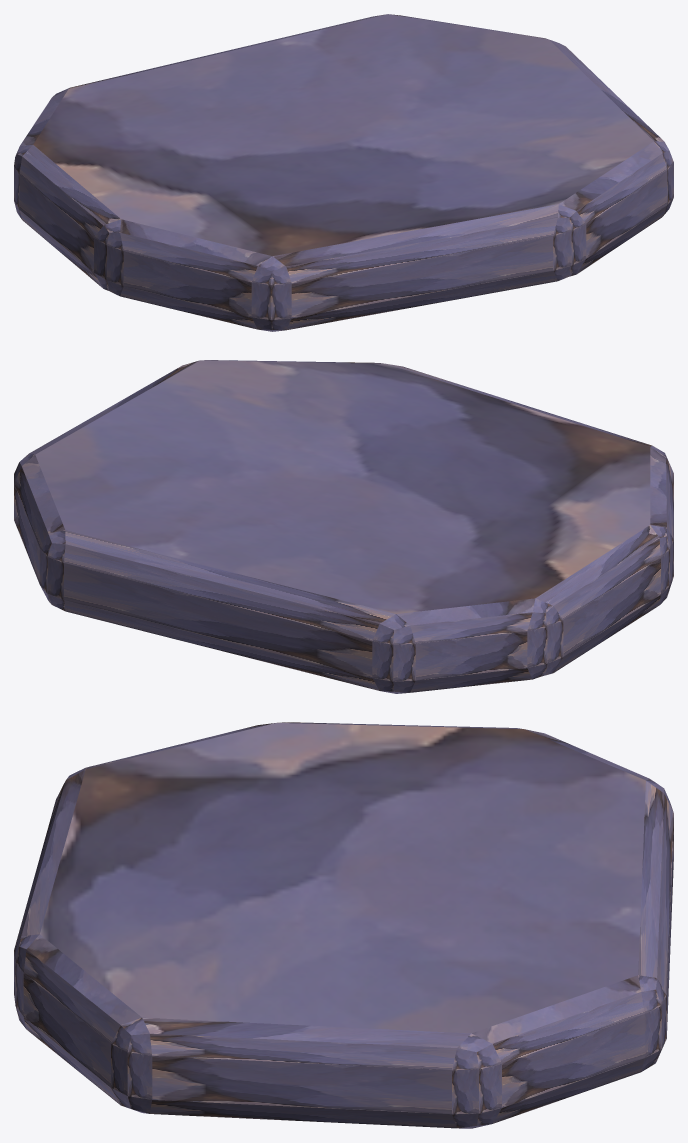
File: step_stone.glb
3 views of the same model, one above another, from view 1: azimuth 30°, elevation 25°; view 2: azimuth 150°, elevation 25°; view 3: azimuth 270°, elevation 25° (orthographic). The views are drawn at different scales.
Visible parts, largest first — view 1: Chipped flat stepping slab; view 2: Chipped flat stepping slab; view 3: Chipped flat stepping slab.
Boxes of the visible parts, bbox=[...] form: Chipped flat stepping slab: bbox=[14, 14, 673, 331]; Chipped flat stepping slab: bbox=[14, 360, 673, 693]; Chipped flat stepping slab: bbox=[14, 722, 673, 1128].
Bounding box in the file's own units: 0.9739 × 0.13 × 0.8153.
Materials: 1 (1 with a texture image).
